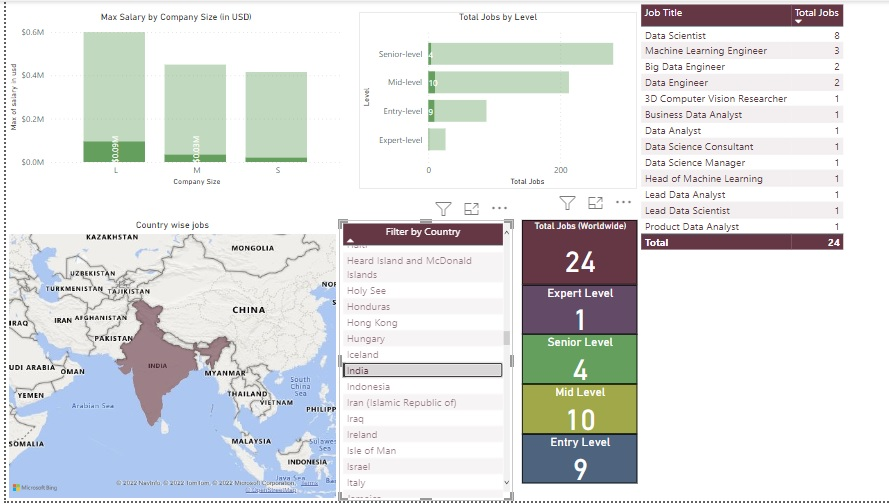

This screenshot's page, from the dashboard's own definition file:
{"tool":"powerbi","page":{"name":"Page 1","canvas":[1280,720],"ordinal":0},"visuals":[{"type":"tableEx","fields":{"Values":["ds_salaries.job_title","CountNonNull(ds_salaries.ID)"]},"box":[908.6,0,371.5,720],"z":0},{"type":"columnChart","title":"Max Salary by Company Size (in USD)","fields":{"Y":["Max(ds_salaries.salary_in_usd)"],"Category":["ds_salaries.company_size"]},"box":[0,15.8,489.6,254.9],"z":1000},{"type":"barChart","fields":{"Category":["ds_salaries.Exp_Level"],"Y":["CountNonNull(ds_salaries.job_title)"]},"box":[508.3,15.8,400.3,254.9],"z":2000},{"type":"filledMap","fields":{"Category":["Coutry_codes_web_data.English short name (using title case)"]},"box":[0,315.4,479.5,404.6],"z":3000},{"type":"tableEx","fields":{"Values":["Coutry_codes_web_data.English short name (using title case)"]},"box":[479.5,315.4,263.5,404.6],"z":4000},{"type":"card","title":"Total Jobs (Worldwide)","fields":{"Values":["CountNonNull(ds_salaries.job_title)"]},"box":[742.9,315.7,165.7,92.9],"z":5000},{"type":"card","title":"Senior Level","fields":{"Values":["ds_salaries.TotalExplevelsenior"]},"box":[743,479.5,165.6,72],"z":6000},{"type":"card","title":"Mid Level","fields":{"Values":["ds_salaries.TotalExplevelMID"]},"box":[743,551.5,165.6,72],"z":7000},{"type":"card","title":"Entry Level","fields":{"Values":["ds_salaries.TotalExplevelsentry"]},"box":[743,623.5,165.6,70.6],"z":8000},{"type":"card","title":"Expert Level","fields":{"Values":["ds_salaries.TotalExplevelexpert"]},"box":[742.9,408.6,165.7,71.4],"z":9000}]}

Visuals, with their boxes in screenshot pixels (x1, y1, x2, y2), scaled from the page's 1280x720 canvas onto the 889x504 screenshot:
tableEx - ds_salaries.job_title x CountNonNull(ds_salaries.ID): crop(631, 0, 888, 503)
"Max Salary by Company Size (in USD)" columnChart: crop(0, 11, 340, 189)
barChart - ds_salaries.Exp_Level x CountNonNull(ds_salaries.job_title): crop(353, 11, 631, 189)
filledMap - Coutry_codes_web_data.English short name (using title case): crop(0, 221, 333, 503)
tableEx - Coutry_codes_web_data.English short name (using title case): crop(333, 221, 516, 503)
"Total Jobs (Worldwide)" card: crop(516, 221, 631, 286)
"Senior Level" card: crop(516, 336, 631, 386)
"Mid Level" card: crop(516, 386, 631, 436)
"Entry Level" card: crop(516, 436, 631, 486)
"Expert Level" card: crop(516, 286, 631, 336)
